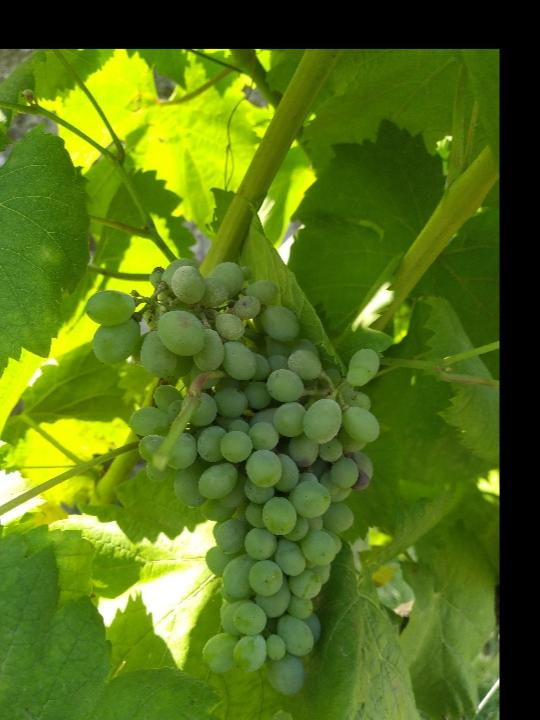grape: (80, 256, 385, 701), (18, 94, 59, 135)
